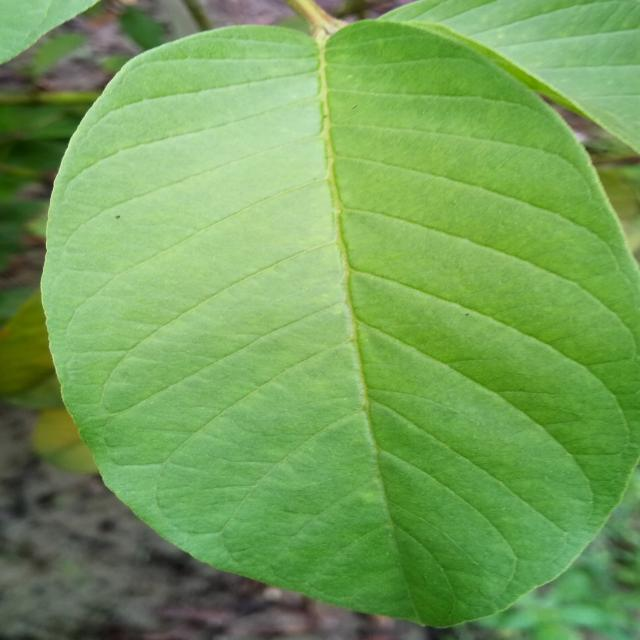Disease Free: (42, 0, 638, 626)
